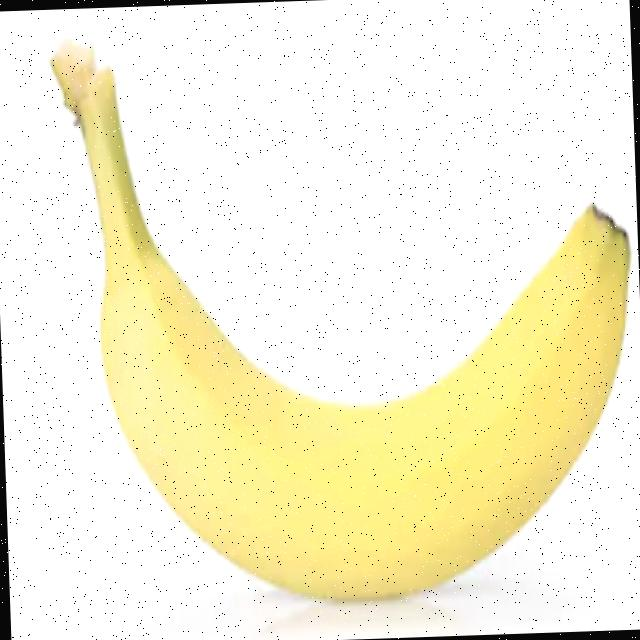Ripe: (31, 3, 640, 631)
